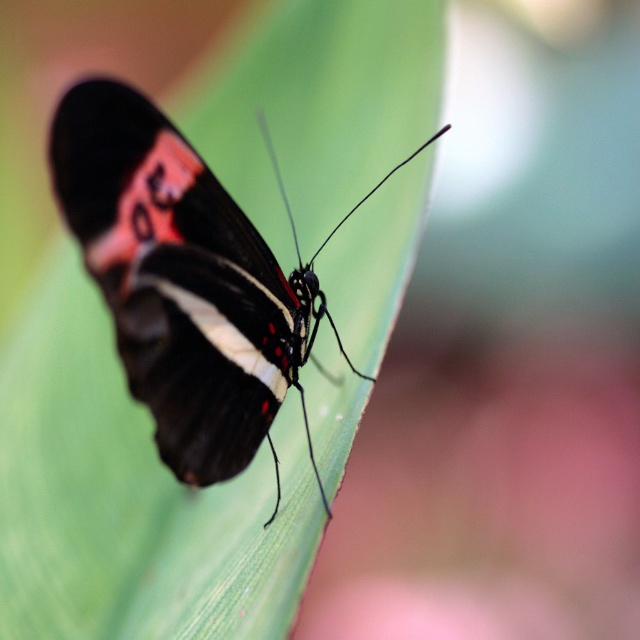Butterfly: (50, 66, 457, 543)
